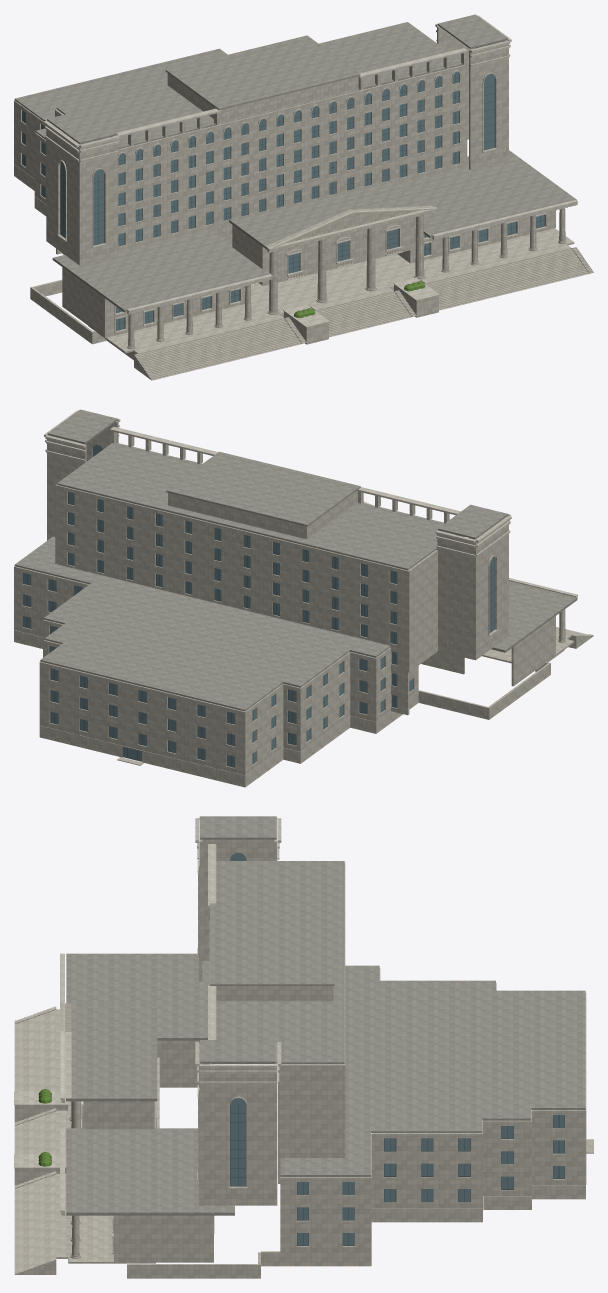
3 views of the same model, one above another, from view 1: azimuth 30°, elevation 25°; view 2: azimuth 150°, elevation 25°; view 3: azimuth 270°, elevation 25° (orthographic). The views are drawn at different scales.
Parts seen in each view (by area): view 1: arts__stone, arts__roof, arts__glass, arts__trim, arts__stair-wing-1, arts__stair-wing1, arts__frame, arts__stair-main, arts__threshold-wing-1, arts__threshold-wing1, arts__threshold-main; view 2: arts__stone, arts__roof, arts__sideglass, arts__trim, arts__frame, arts__glass; view 3: arts__roof, arts__stone, arts__trim, arts__stair-wing1, arts__sideglass, arts__stair-wing-1, arts__stair-main, arts__glass, arts__frame, arts__threshold-wing1.
Boxes of the visible parts, x1,y1,x2,y2 form: arts__stone: (14, 26, 593, 380); arts__roof: (14, 14, 576, 312); arts__glass: (60, 71, 544, 330); arts__trim: (43, 15, 577, 349); arts__stair-wing-1: (139, 319, 301, 379); arts__stair-wing1: (427, 249, 589, 309); arts__frame: (22, 74, 544, 330); arts__stair-main: (317, 292, 411, 335); arts__threshold-wing-1: (133, 314, 284, 354); arts__threshold-wing1: (420, 244, 571, 284); arts__threshold-main: (310, 287, 394, 310); arts__stone: (14, 421, 593, 787); arts__roof: (14, 409, 577, 711); arts__sideglass: (23, 492, 412, 767); arts__trim: (44, 410, 577, 642); arts__frame: (22, 492, 494, 767); arts__glass: (92, 445, 494, 761); arts__roof: (66, 816, 585, 1215); arts__stone: (14, 819, 586, 1278); arts__trim: (14, 816, 281, 1258); arts__stair-wing1: (14, 1174, 56, 1271); arts__sideglass: (297, 1115, 564, 1245); arts__stair-wing-1: (14, 1010, 56, 1091); arts__stair-main: (14, 1111, 56, 1154); arts__glass: (230, 852, 246, 1185); arts__frame: (230, 1105, 564, 1245); arts__threshold-wing1: (56, 1174, 68, 1258).
Size of the model in its own units: 102 by 38.35 by 95.3.
Materials: 8 (4 with a texture image).
